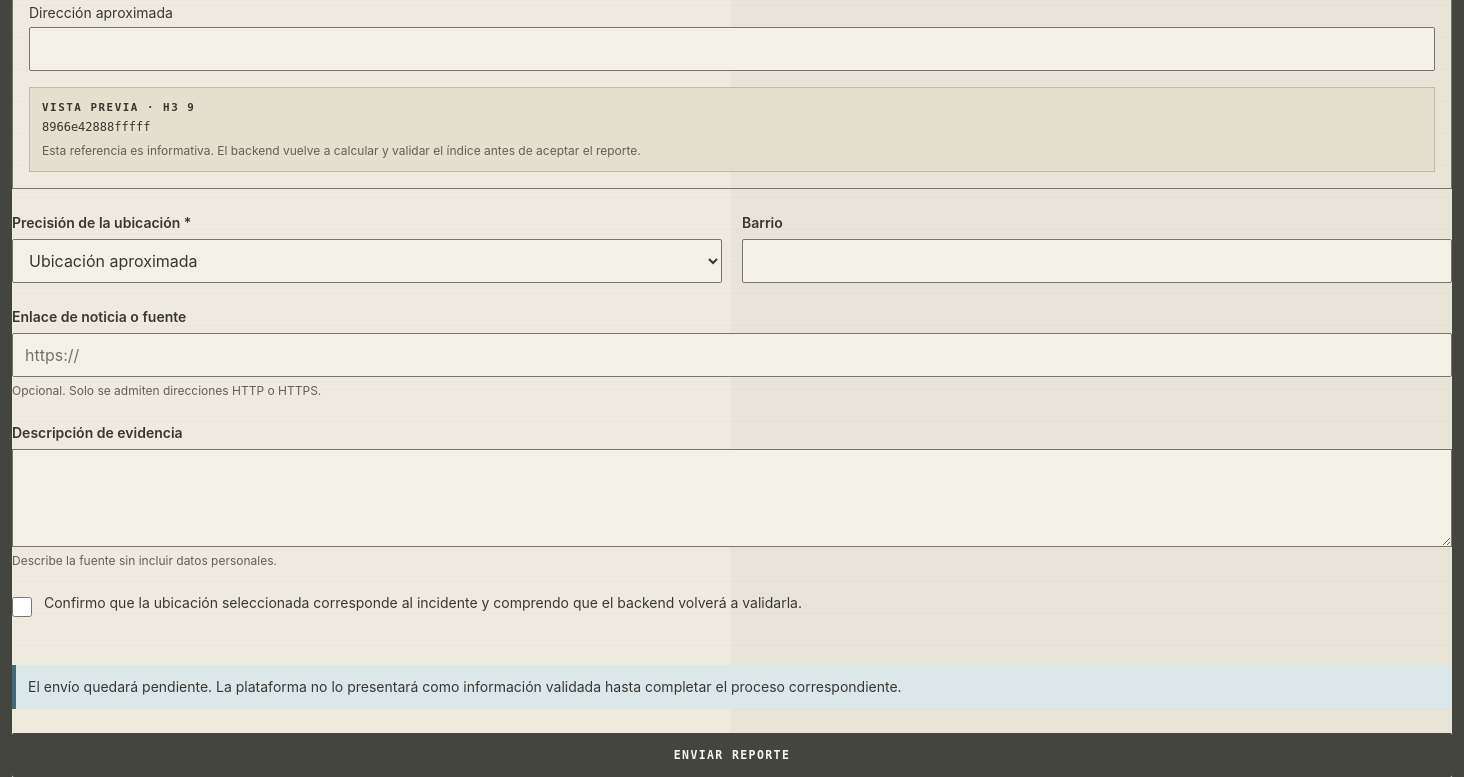
Test: IncidentReportForm › valida los campos obligatorios antes de enviar
(page scrolled)
Click the button "ENVIAR REPORTE" at (732,755), box 12,733 -> 1452,776
(page scrolled)
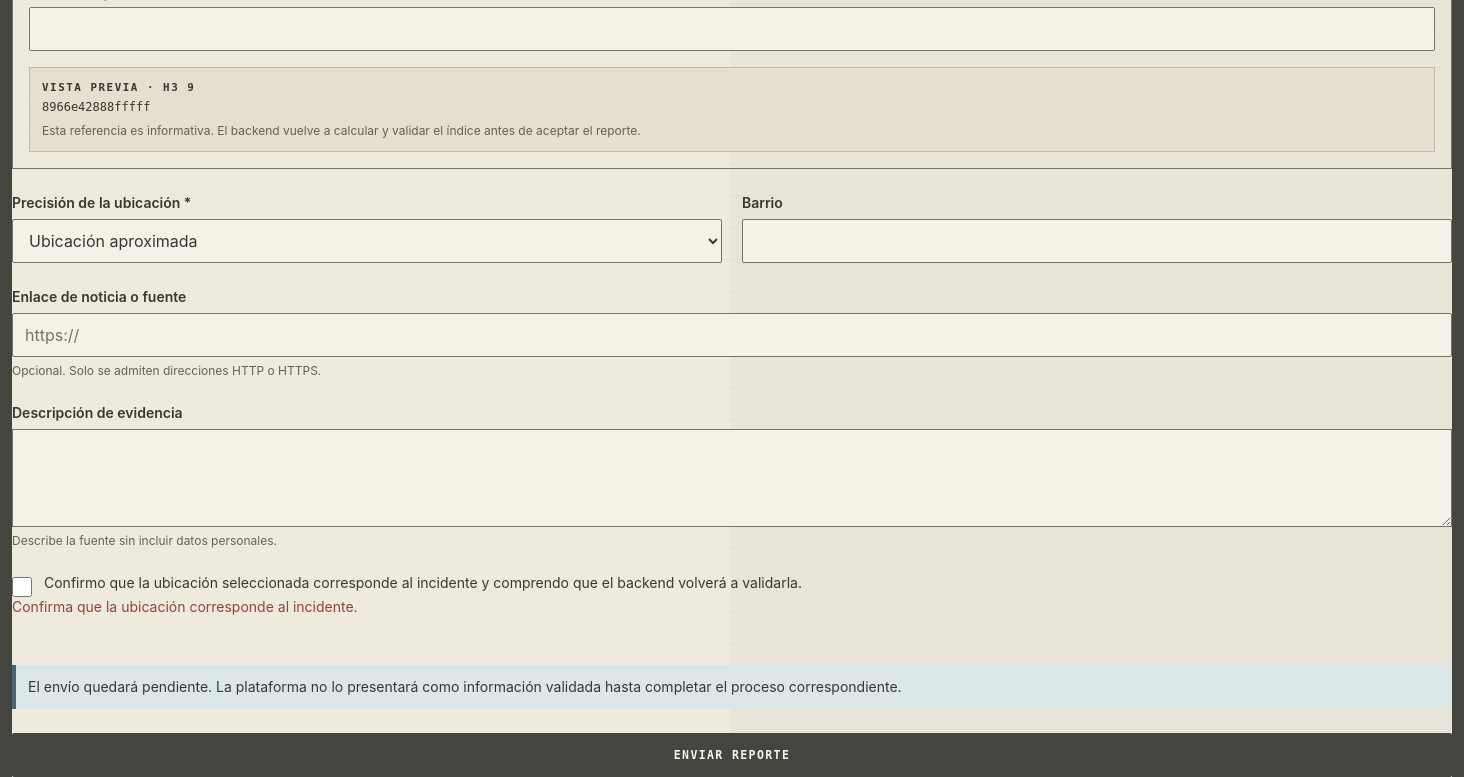
Expected: the text "Confirma que la ubicación corresponde al incidente." is shown, 12,598 -> 358,615
